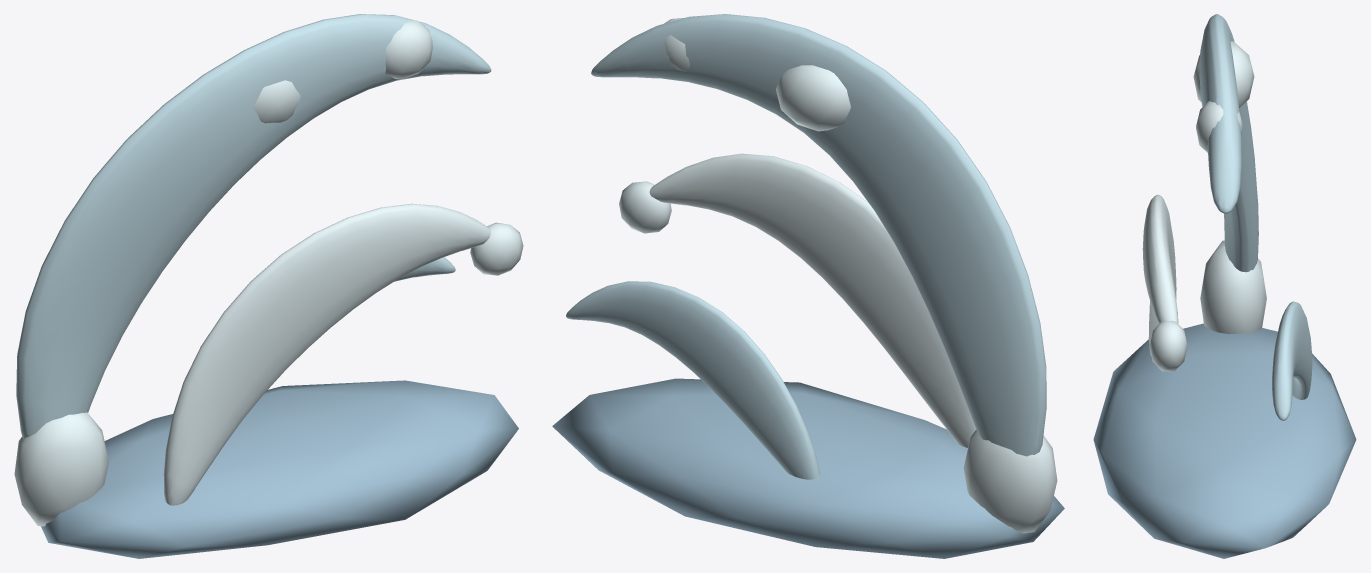
Rendered from ice_current_fan.glb.
3 views of the same model, side by side, from view 1: azimuth 30°, elevation 25°; view 2: azimuth 150°, elevation 25°; view 3: azimuth 270°, elevation 25° (orthographic). The views are drawn at different scales.
Parts seen in each view (by area): view 1: frozen_current_sheet_0, current_shelf, frozen_current_sheet_1, current_foam_0, current_foam_2, current_foam_3, current_foam_1; view 2: frozen_current_sheet_0, current_shelf, frozen_current_sheet_1, frozen_current_sheet_2, current_foam_0, current_foam_1, current_foam_3, current_foam_2; view 3: current_shelf, frozen_current_sheet_0, current_foam_0, frozen_current_sheet_1, frozen_current_sheet_2, current_foam_3, current_foam_1, current_foam_2.
Boxes of the visible parts, x1,y1,x2,y2 form: frozen_current_sheet_0: (16, 14, 491, 438); current_shelf: (41, 380, 518, 558); frozen_current_sheet_1: (163, 203, 490, 505); current_foam_0: (14, 412, 108, 526); current_foam_2: (385, 20, 432, 79); current_foam_3: (470, 222, 523, 275); current_foam_1: (253, 80, 300, 123); frozen_current_sheet_0: (591, 14, 1046, 456); current_shelf: (552, 378, 1064, 558); frozen_current_sheet_1: (649, 153, 976, 447); frozen_current_sheet_2: (566, 281, 820, 479); current_foam_0: (963, 430, 1057, 533); current_foam_1: (775, 65, 850, 131); current_foam_3: (619, 181, 671, 233); current_foam_2: (664, 18, 689, 71); current_shelf: (1093, 323, 1356, 558); frozen_current_sheet_0: (1199, 14, 1258, 272); current_foam_0: (1200, 240, 1266, 333); frozen_current_sheet_1: (1142, 194, 1178, 356); frozen_current_sheet_2: (1272, 301, 1312, 420); current_foam_3: (1149, 320, 1187, 371); current_foam_1: (1193, 41, 1254, 108); current_foam_2: (1196, 101, 1243, 152).
Size of the model in its own units: 5.93 by 5.6 by 2.94.
